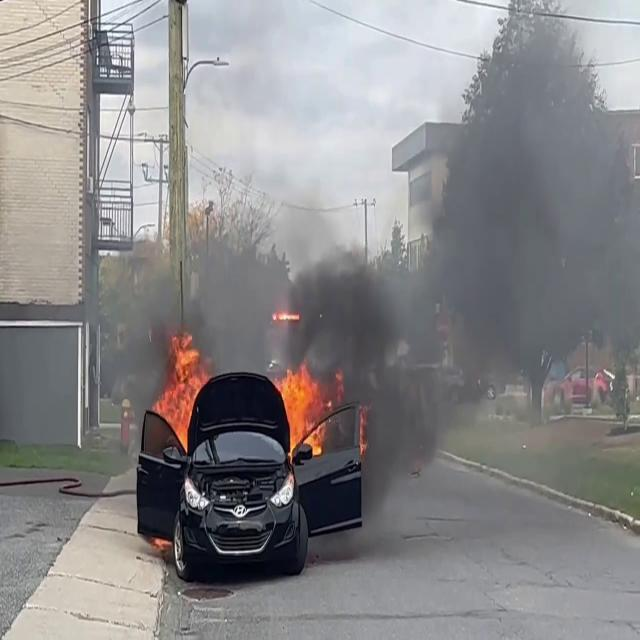Fire: (150, 330, 211, 448), (273, 359, 330, 459)
Smoke: (358, 2, 640, 522), (93, 196, 333, 390)
